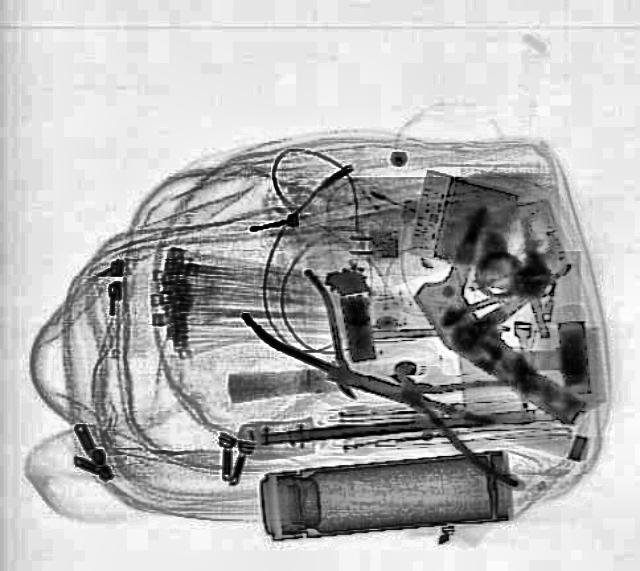Pliers: (356, 331, 572, 488), (232, 265, 394, 415)
